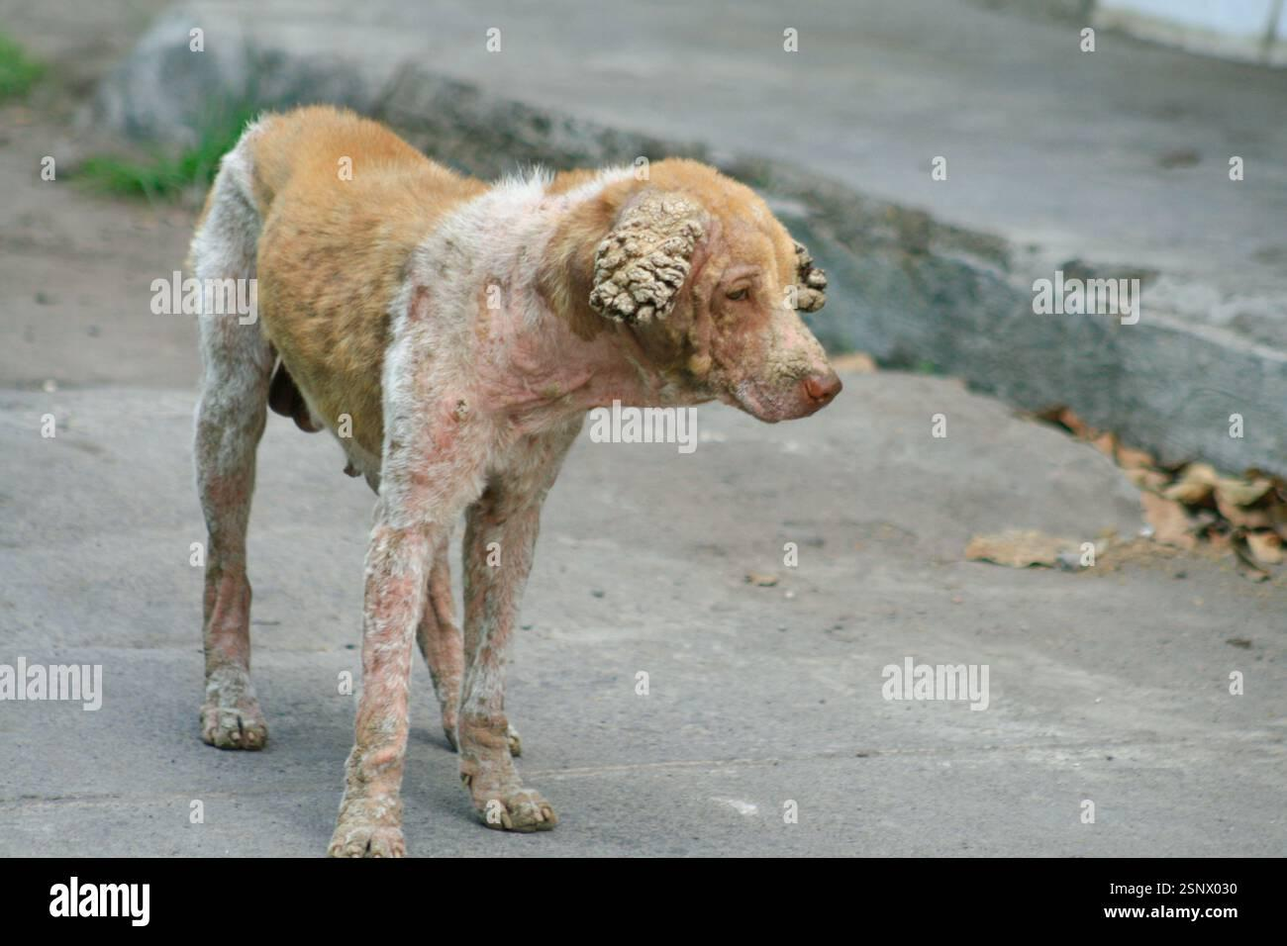infection: (346, 220, 842, 845)
